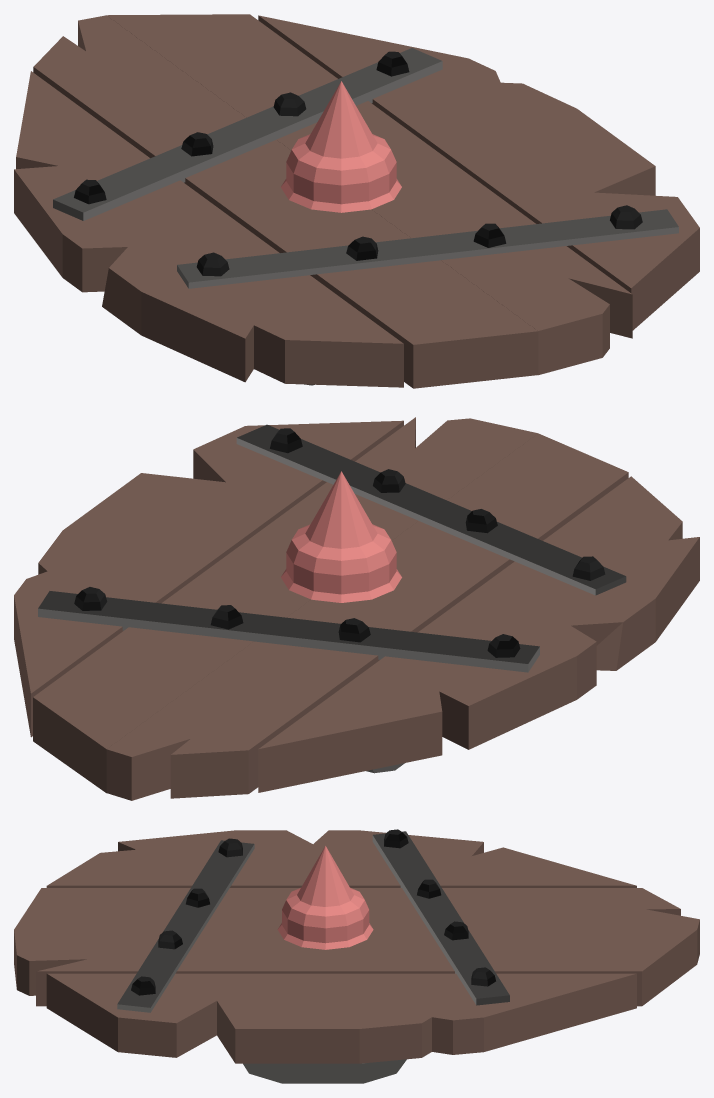
File: shield_wood_boss.glb
3 renders of one model, top to bottom at view 1: azimuth 30°, elevation 25°; view 2: azimuth 150°, elevation 25°; view 3: azimuth 270°, elevation 25°, orthographic. The views are drawn at different scales.
Parts seen in each view (by area): view 1: group1332543897; view 2: group1332543897; view 3: group1332543897.
Part boxes in pixels (bbox=[...]): group1332543897: bbox=[14, 14, 699, 388]; group1332543897: bbox=[14, 417, 699, 800]; group1332543897: bbox=[14, 829, 699, 1083].
Size of the model in its own units: 0.387 by 0.189 by 0.5648.
